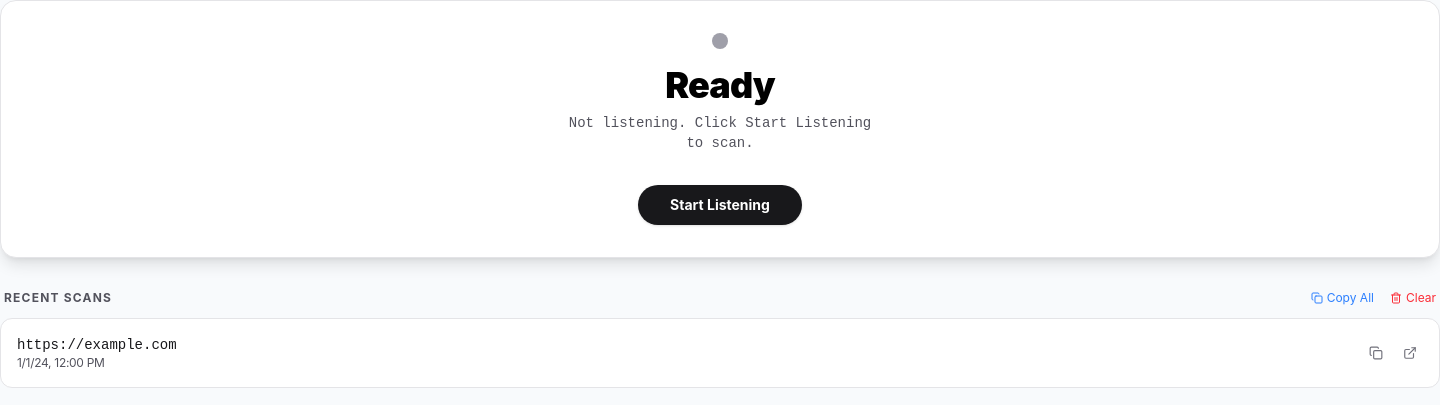
Scanner › cancels the clear confirm without clearing
This screenshot has width=1440, height=405.
Click the button "Clear". click: (1413, 298)
box: [1390,290,1436,306]
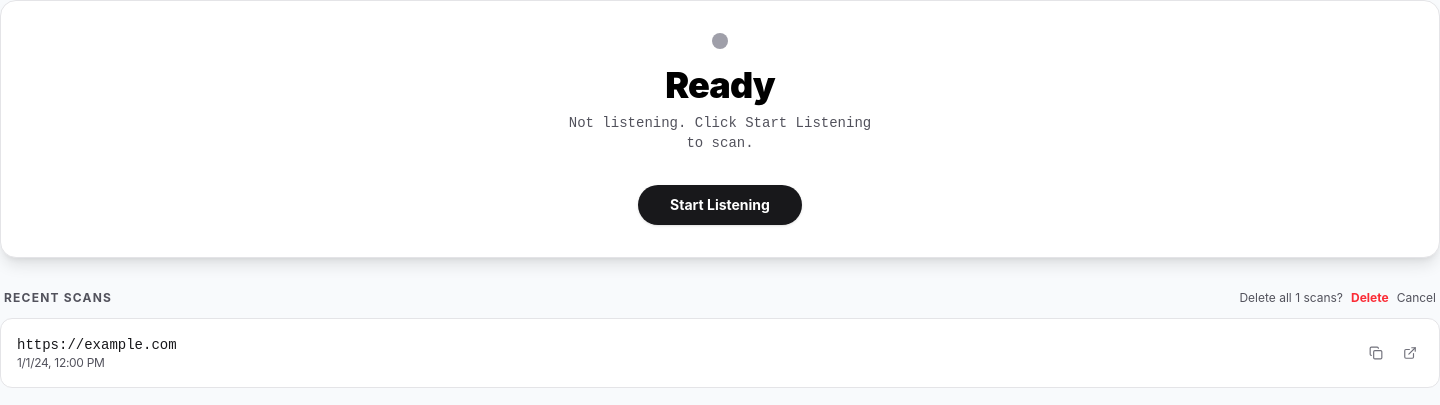
Click the button "Cancel". click: (1416, 298)
box: [1397,290,1436,306]
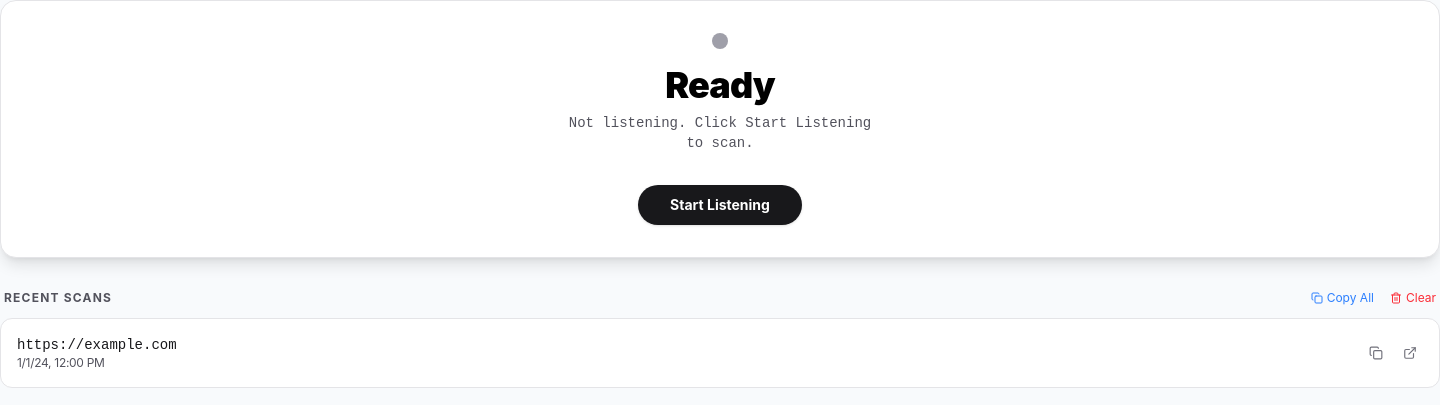
Now the button "Clear" is shown, box [1390,290,1436,306]
